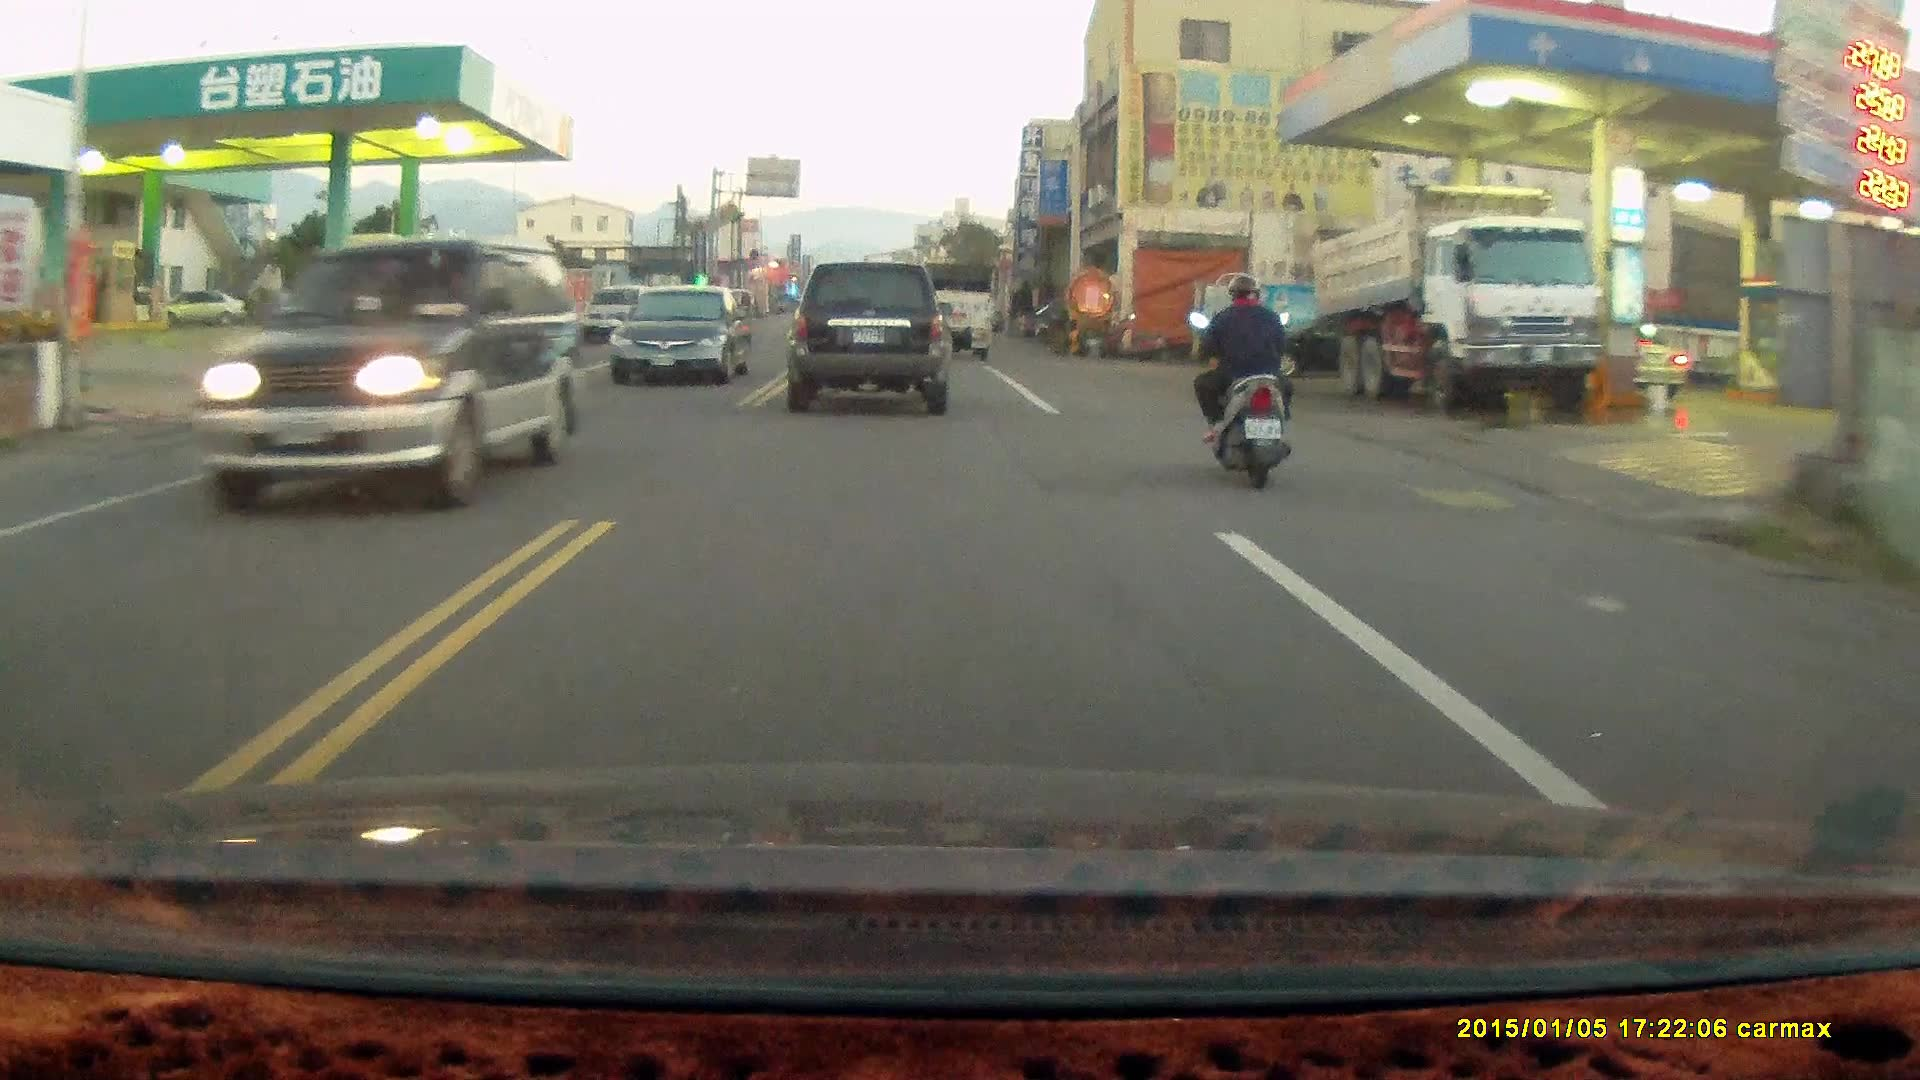rider: (1187, 266, 1295, 486)
vehicle: (189, 238, 591, 515), (1310, 182, 1604, 410), (792, 259, 954, 415), (609, 285, 757, 391), (900, 251, 993, 349)
